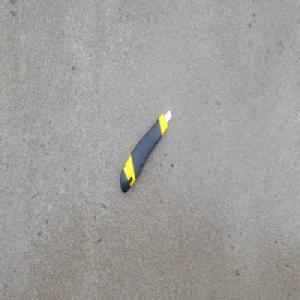Cutter: (119, 108, 173, 195)
